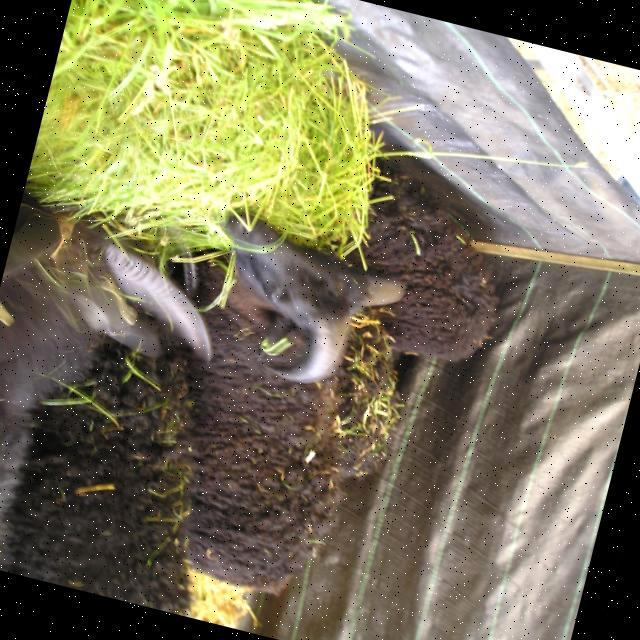sheep: (169, 211, 404, 588), (0, 216, 210, 614), (350, 159, 493, 360), (332, 310, 403, 475)
